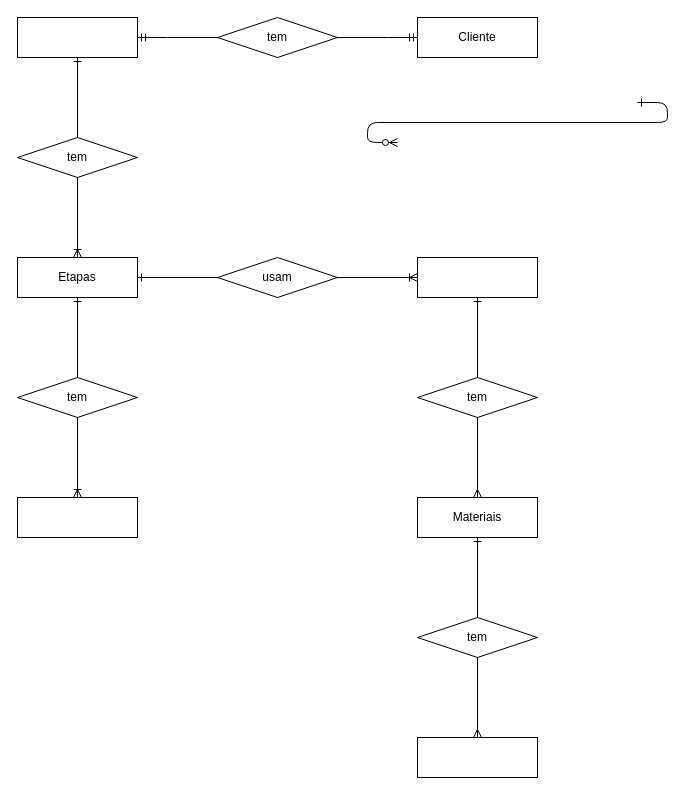
The diagram is 694 pixels wide and 795 high, and some of its shapes have lost their labels. Here are the shapes that lost their labels. From the top down, the centre of each, then its label:
At pixel 77 37: "Projeto".
At pixel 477 277: "Estoque".
At pixel 77 517: "Colaboradores".
At pixel 477 757: "Fornecedores".
